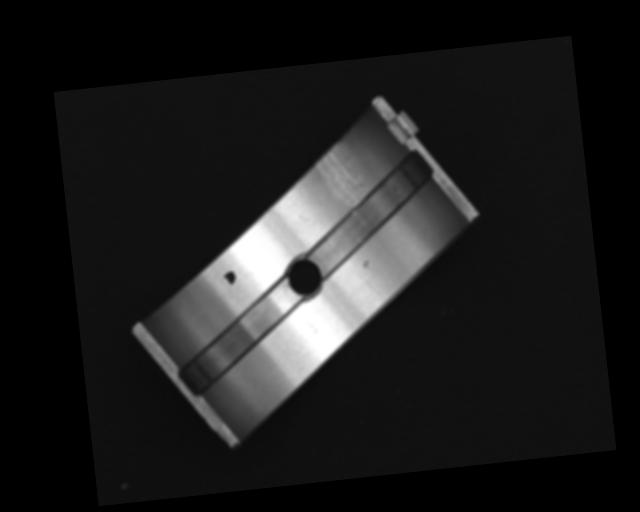blot: (222, 269, 237, 286)
bruise: (361, 259, 371, 268)
gap: (297, 148, 441, 274), (169, 279, 310, 397)
hole: (285, 256, 324, 300)
scratch: (313, 140, 370, 215)
